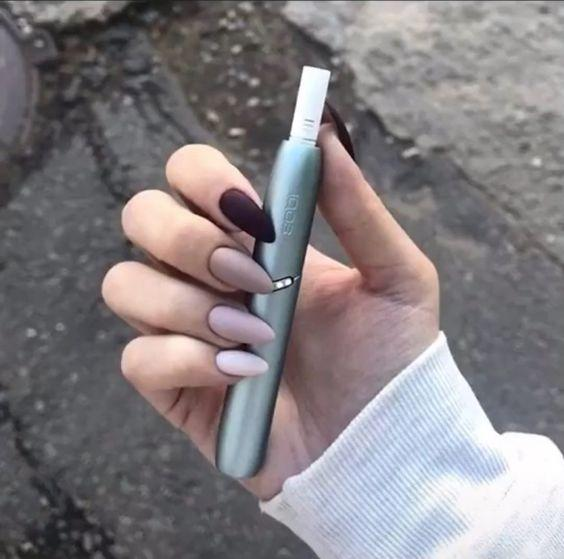iqos: (216, 66, 330, 477)
